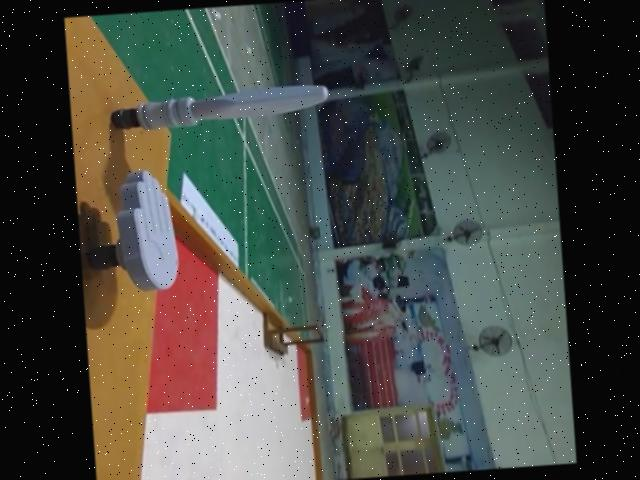Hand: (81, 168, 183, 296)
Sph: (109, 79, 331, 134)
